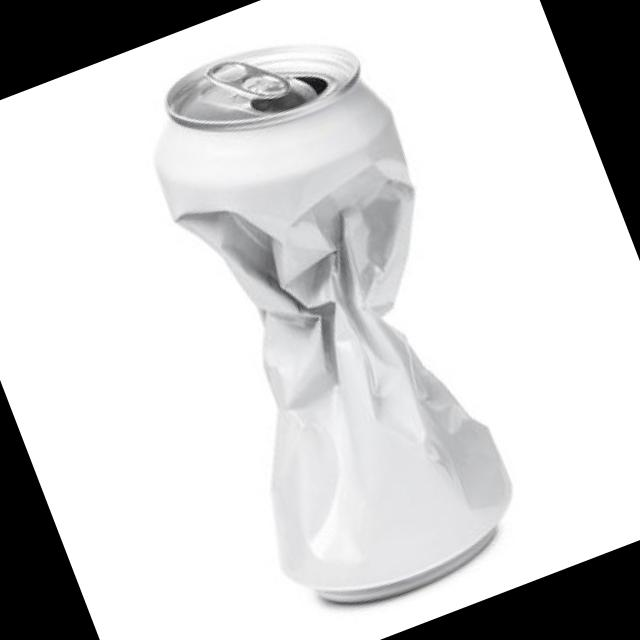Kaleng: (101, 5, 557, 632)
